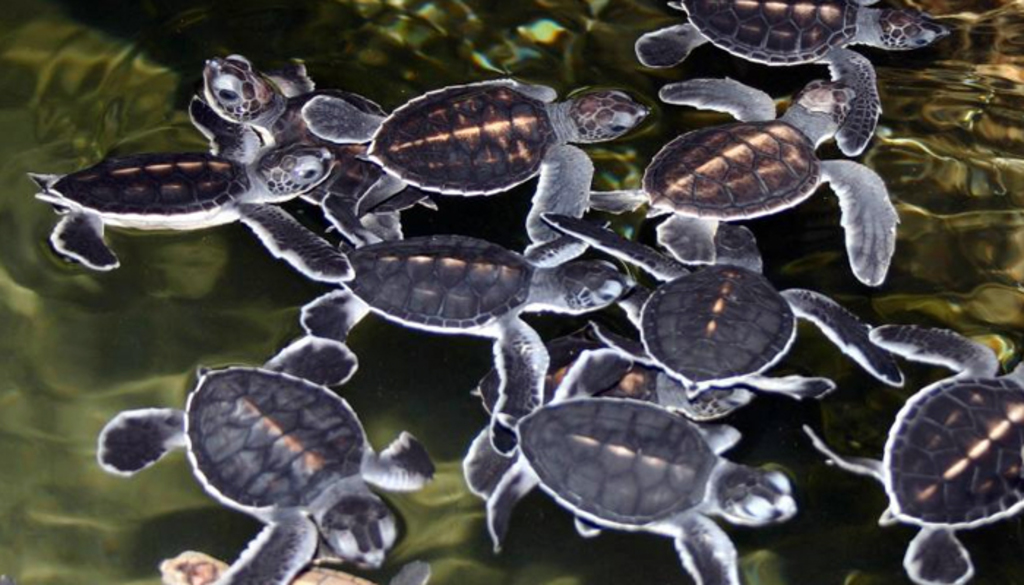Sea turtles: (26, 0, 1022, 583), (95, 353, 399, 583)
